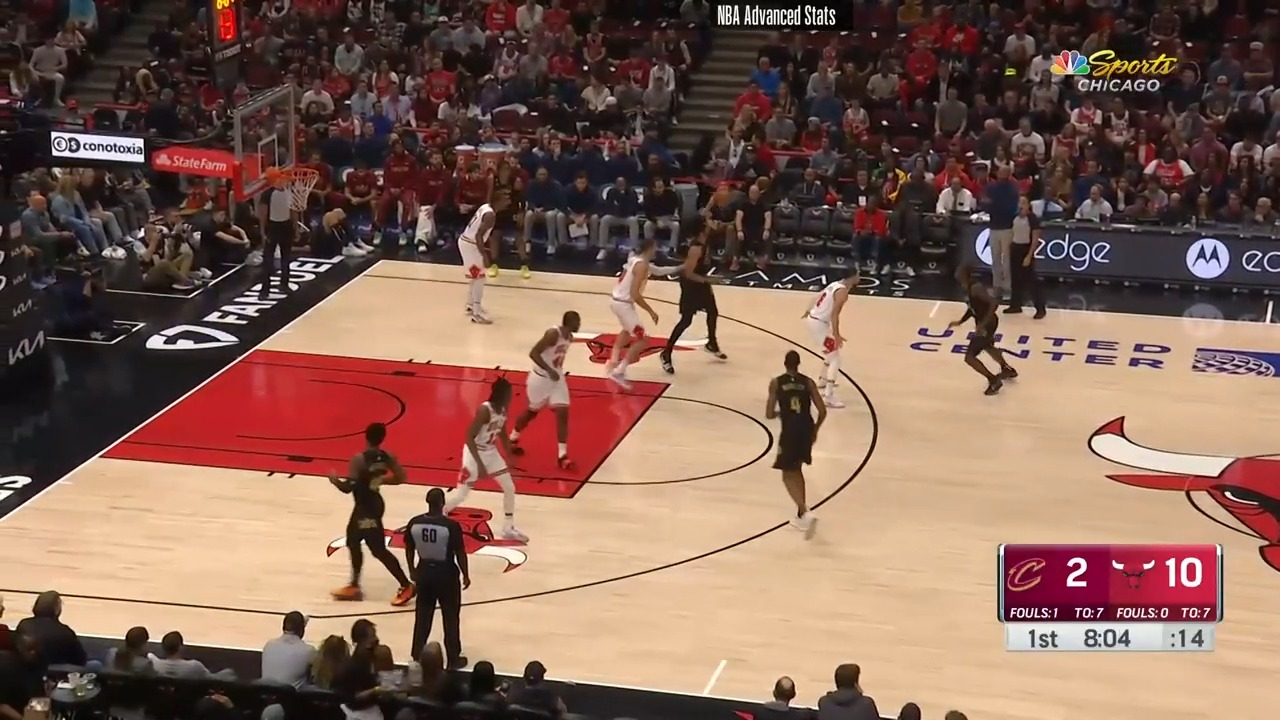net: (261, 160, 321, 214)
player: (324, 417, 416, 607), (756, 344, 827, 540), (444, 379, 526, 546), (510, 307, 592, 471), (659, 215, 737, 377), (948, 264, 1020, 402), (800, 271, 873, 405), (605, 234, 667, 381), (455, 185, 512, 326)
referee: (402, 487, 496, 671), (1004, 192, 1055, 317), (261, 175, 297, 305)
